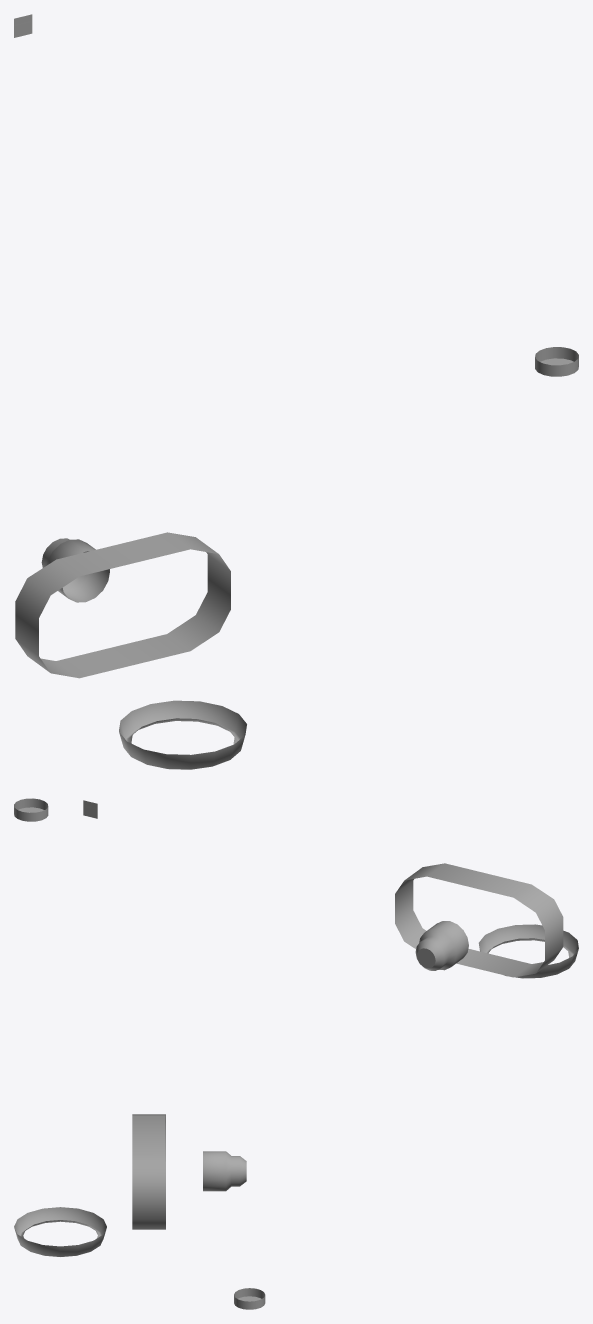
Rendered from CoffeeMachine_23_CoffeeMachine_23_0_GeomSubset_2.obj.
3 views of the same model, one above another, from view 1: azimuth 30°, elevation 25°; view 2: azimuth 150°, elevation 25°; view 3: azimuth 270°, elevation 25° (orthographic). The views are drawn at different scales.
Visible parts, largest first — view 1: CoffeeMachine_23_CoffeeMachine_23_0_GeomSubset_2; view 2: CoffeeMachine_23_CoffeeMachine_23_0_GeomSubset_2; view 3: CoffeeMachine_23_CoffeeMachine_23_0_GeomSubset_2.
Part boxes in pixels (<box>): CoffeeMachine_23_CoffeeMachine_23_0_GeomSubset_2: <box>14,14,578,769</box>; CoffeeMachine_23_CoffeeMachine_23_0_GeomSubset_2: <box>14,798,578,978</box>; CoffeeMachine_23_CoffeeMachine_23_0_GeomSubset_2: <box>14,1114,265,1309</box>.
Size of the model in its own units: 0.3346 by 0.2149 by 0.3677.
